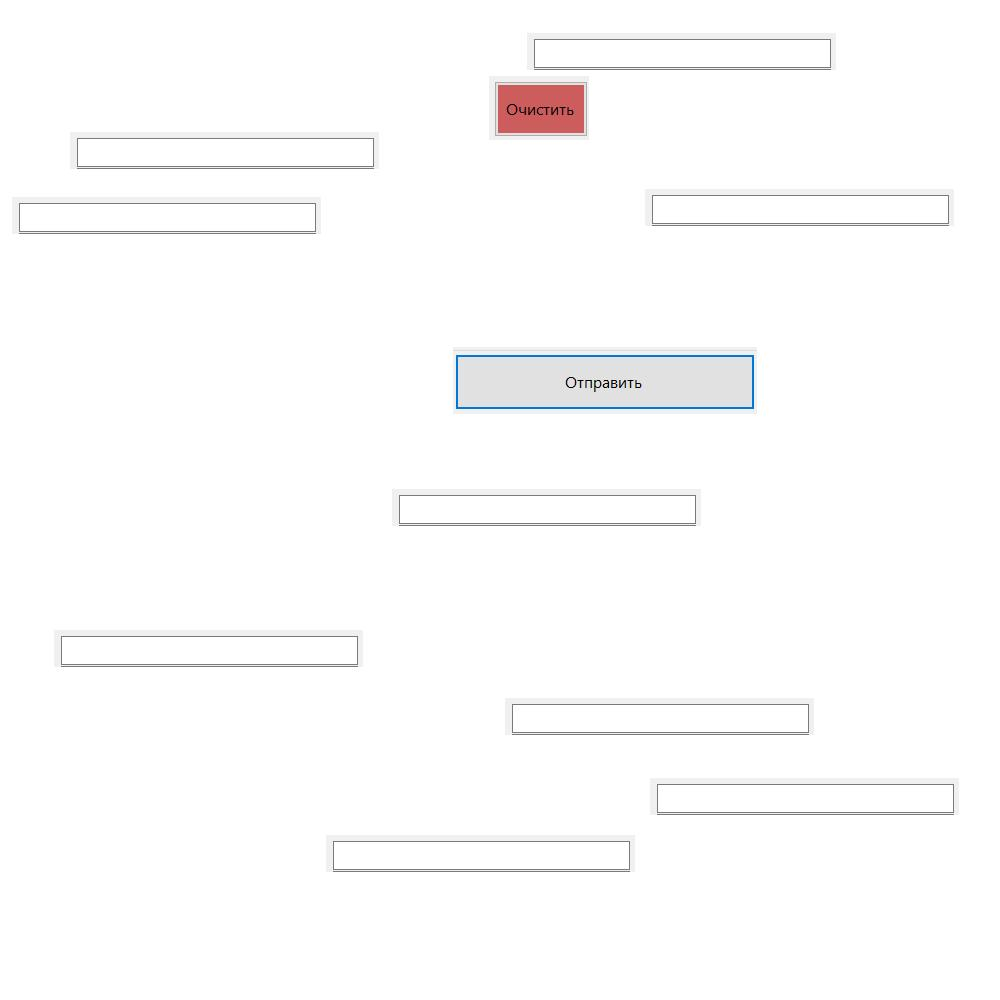Button: (453, 347, 757, 414), (489, 76, 589, 140)
EditText-: (12, 197, 321, 234), (70, 132, 379, 169), (392, 489, 701, 526), (645, 189, 954, 226), (505, 698, 814, 735), (527, 33, 836, 70), (326, 835, 635, 872), (650, 778, 959, 815), (54, 630, 363, 667)
